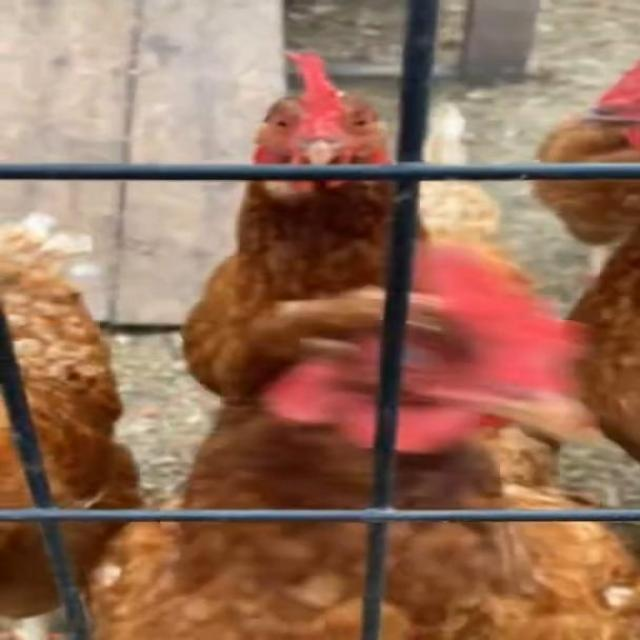Chicken: (76, 244, 640, 640), (177, 51, 505, 402), (0, 210, 145, 640), (526, 59, 640, 274), (557, 219, 640, 465)
